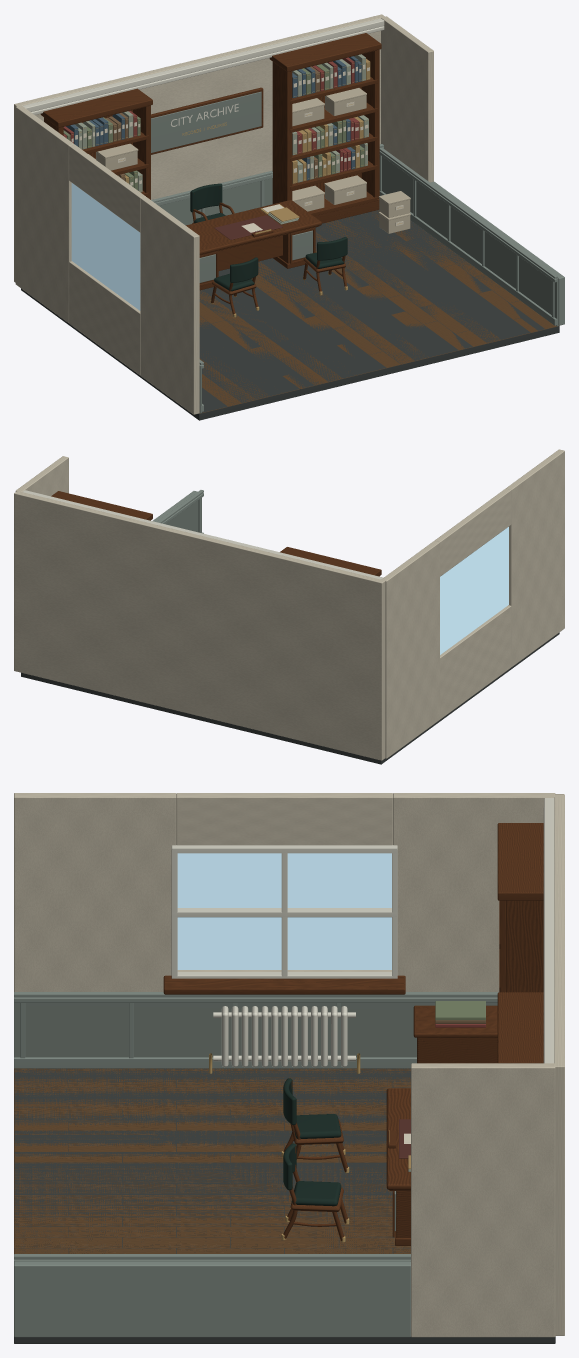
Rendered from archival-office.glb.
3 views of the same model, one above another, from view 1: azimuth 30°, elevation 25°; view 2: azimuth 150°, elevation 25°; view 3: azimuth 270°, elevation 25° (orthographic). The views are drawn at different scales.
Visible parts, largest first — view 1: Office • Warm lime plaster, Office • Darkened metal, Office • Walnut • satin oiled grain, Office • Floor • smoked honey oak, Office • Panel recessed field, Office • Wainscot • muted olive grey, Office • Cool softly frosted window, Office • Archive linen board, Office • Ivory painted radiator, Office • Bottle green woven upholstery, Office • Binding sage, Office • Binding navy (+7 smaller); view 2: Office • Warm lime plaster, Office • Cool softly frosted window, Office • Darkened metal, Office • Walnut • satin oiled grain, Office • Ivory painted radiator, Office • Wainscot • muted olive grey, Office • Panel recessed field; view 3: Office • Warm lime plaster, Office • Floor • smoked honey oak, Office • Darkened metal, Office • Wainscot • muted olive grey, Office • Walnut • satin oiled grain, Office • Cool softly frosted window, Office • Panel recessed field, Office • Ivory painted radiator, Office • Bottle green woven upholstery, Office • Binding olive.
Boxes of the visible parts, left/top/right/bottom form: Office • Warm lime plaster: left=14, top=14, right=433, bottom=414; Office • Darkened metal: left=21, top=210, right=559, bottom=420; Office • Walnut • satin oiled grain: left=40, top=33, right=381, bottom=315; Office • Floor • smoked honey oak: left=199, top=210, right=559, bottom=413; Office • Panel recessed field: left=151, top=91, right=558, bottom=413; Office • Wainscot • muted olive grey: left=151, top=144, right=564, bottom=411; Office • Cool softly frosted window: left=71, top=183, right=140, bottom=310; Office • Archive linen board: left=88, top=88, right=410, bottom=233; Office • Ivory painted radiator: left=22, top=18, right=384, bottom=126; Office • Bottle green woven upholstery: left=190, top=183, right=347, bottom=291; Office • Binding sage: left=74, top=54, right=368, bottom=224; Office • Binding navy: left=66, top=56, right=361, bottom=180; Office • Warm lime plaster: left=14, top=449, right=564, bottom=760; Office • Cool softly frosted window: left=440, top=527, right=508, bottom=654; Office • Darkened metal: left=21, top=632, right=559, bottom=764; Office • Walnut • satin oiled grain: left=51, top=491, right=381, bottom=576; Office • Ivory painted radiator: left=23, top=490, right=383, bottom=579; Office • Wainscot • muted olive grey: left=152, top=490, right=203, bottom=533; Office • Panel recessed field: left=166, top=498, right=201, bottom=532; Office • Warm lime plaster: left=14, top=793, right=564, bottom=1337; Office • Floor • smoked honey oak: left=14, top=1068, right=410, bottom=1253; Office • Darkened metal: left=14, top=1068, right=555, bottom=1343; Office • Wainscot • muted olive grey: left=14, top=992, right=498, bottom=1337; Office • Walnut • satin oiled grain: left=163, top=823, right=543, bottom=1245; Office • Cool softly frosted window: left=177, top=853, right=391, bottom=969; Office • Panel recessed field: left=14, top=1003, right=497, bottom=1261; Office • Ivory painted radiator: left=171, top=798, right=554, bottom=1067; Office • Bottle green woven upholstery: left=283, top=1078, right=341, bottom=1206; Office • Binding olive: left=435, top=1001, right=485, bottom=1020.
Size of the model in its own units: 7.21 by 3.43 by 6.11.
19 materials, 4 textured.
